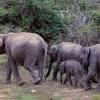elephant: (0, 32, 99, 86)
